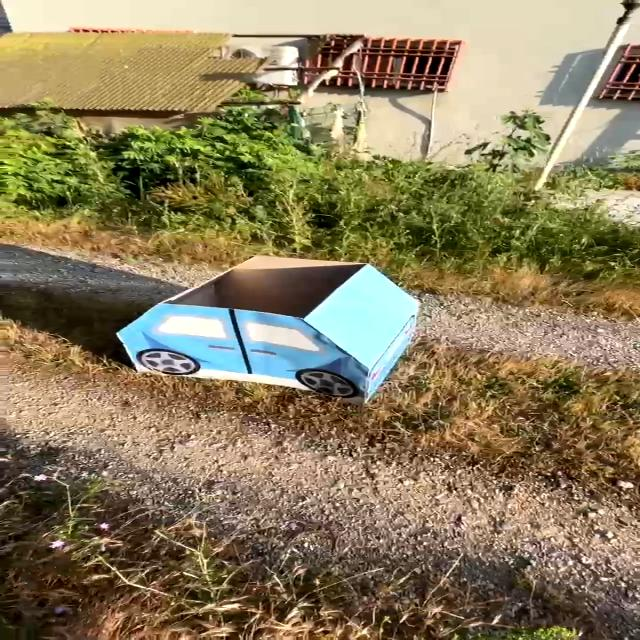blue_car: (64, 235, 453, 422)
